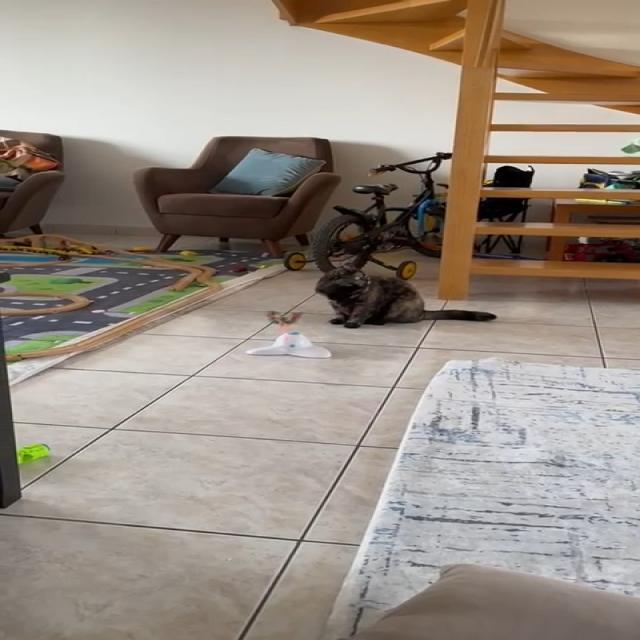authorized: (313, 265, 496, 328)
